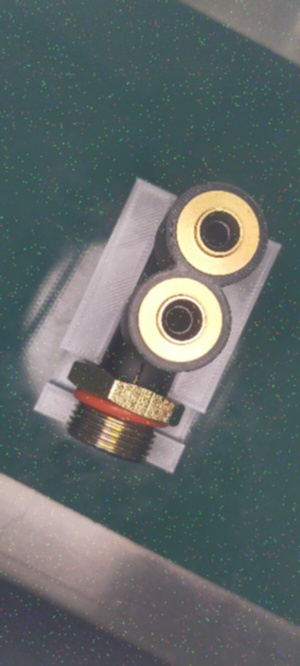craze: (134, 362, 148, 386)
